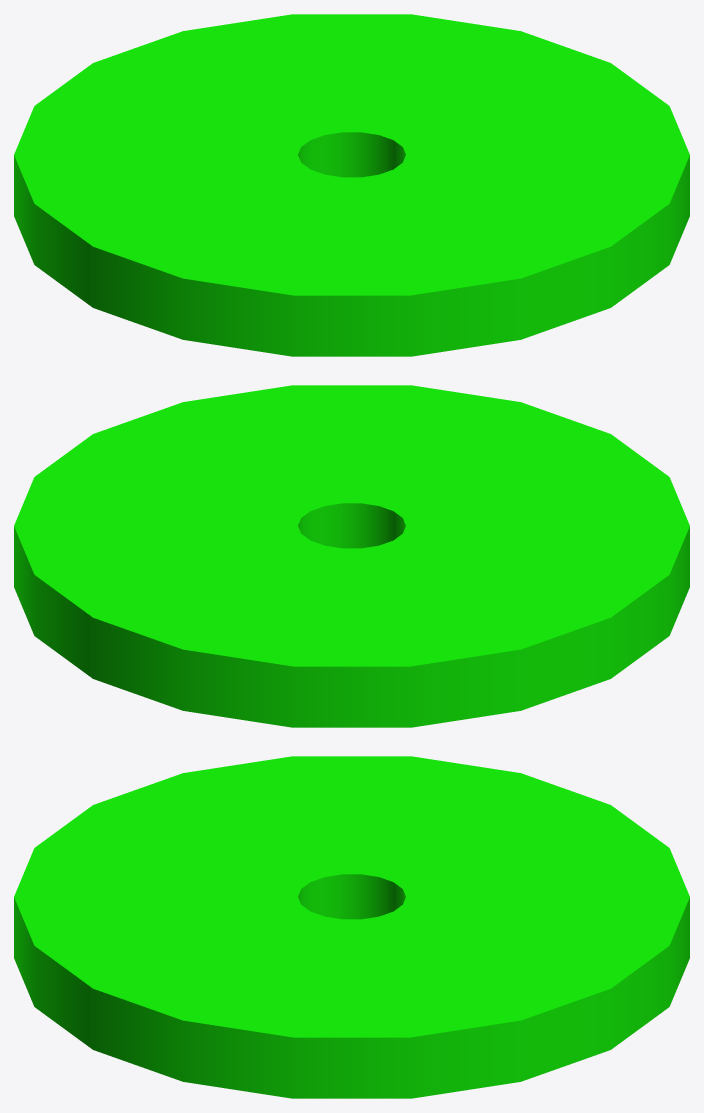
The model's file is Disco4.fbx.
3 renders of one model, top to bottom at view 1: azimuth 30°, elevation 25°; view 2: azimuth 150°, elevation 25°; view 3: azimuth 270°, elevation 25°, orthographic.
Visible parts, largest first — view 1: Disc004; view 2: Disc004; view 3: Disc004.
Boxes of the visible parts, x1,y1,x2,y2 form: Disc004: (14, 14, 689, 356); Disc004: (14, 385, 689, 727); Disc004: (14, 756, 689, 1098).
Size of the model in its own units: 98.48 by 10 by 100.
